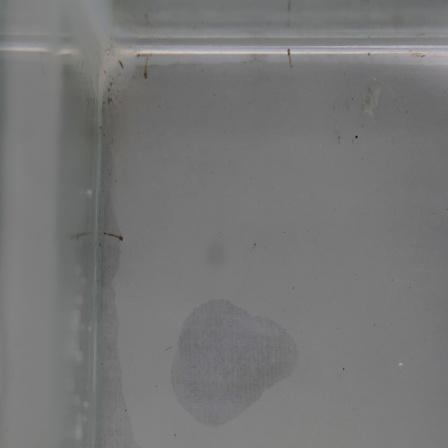Jentik-Nyamuk: (99, 227, 126, 248), (140, 53, 152, 83), (283, 44, 295, 72)
